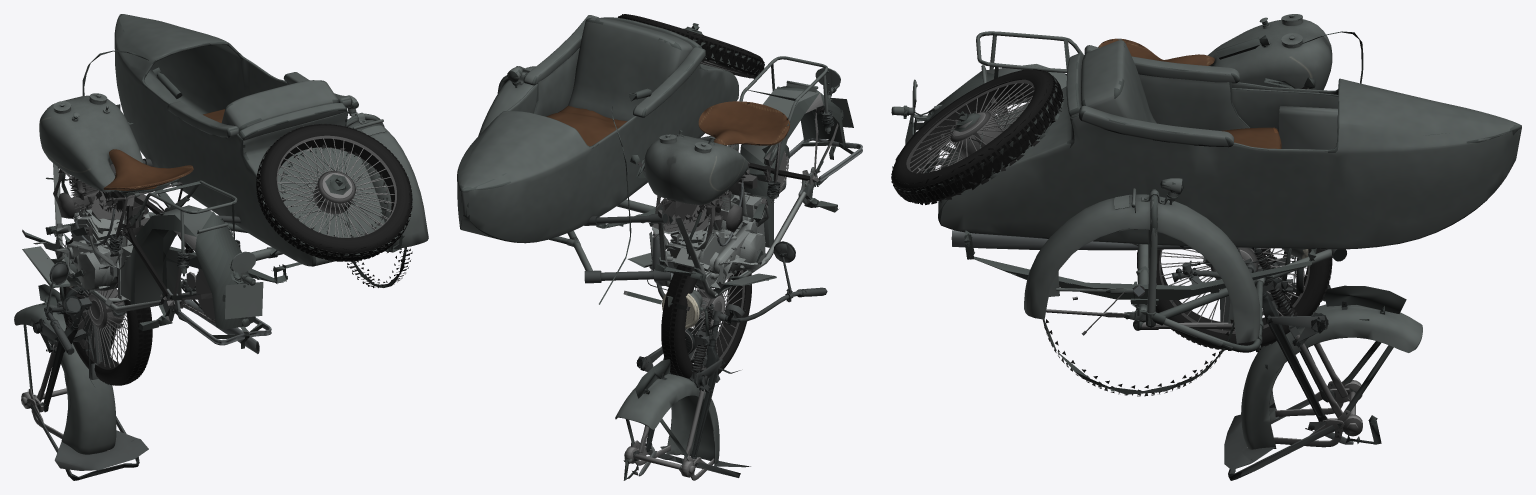
The model's file is CWSM111.fbx.
3 views of the same model, side by side, from view 1: azimuth 30°, elevation 25°; view 2: azimuth 150°, elevation 25°; view 3: azimuth 270°, elevation 25° (orthographic). The views are drawn at different scales.
Parts seen in each view (by area): view 1: cw_Sidecar, cw_Body, cw_SpareWheel, cw_Fork, cw_GasTank, cw_FenderFront, cw_WheelFront, cw_SidecarFender, cw_FenderRear, cw_Seat, cw_WheelRear, cw_Steering (+2 smaller); view 2: cw_Sidecar, cw_Body, cw_Fork, cw_GasTank, cw_FenderFront, cw_WheelFront, cw_Seat, cw_SpareWheel, cw_WheelRear, cw_Steering, cw_FenderRear, cw_SidecarFender (+2 smaller); view 3: cw_Sidecar, cw_Fork, cw_SpareWheel, cw_SidecarFender, cw_Body, cw_FenderFront, cw_GasTank, cw_WheelFront, cw_WheelRear, cw_Muffler, cw_FenderRear, cw_Seat (+1 smaller).
Boxes of the visible parts, box(x1,y1,x2,y2) form: cw_Sidecar: box(114, 14, 384, 266); cw_Body: box(22, 50, 412, 348); cw_SpareWheel: box(256, 123, 412, 261); cw_Fork: box(21, 284, 148, 480); cw_GasTank: box(39, 93, 143, 192); cw_FenderFront: box(14, 303, 116, 454); cw_WheelFront: box(59, 238, 152, 385); cw_SidecarFender: box(346, 95, 428, 247); cw_FenderRear: box(129, 180, 255, 287); cw_Seat: box(103, 149, 193, 190); cw_WheelRear: box(63, 240, 150, 385); cw_Steering: box(44, 261, 195, 354); cw_Sidecar: box(457, 15, 738, 283); cw_Body: box(596, 14, 853, 310); cw_Fork: box(623, 304, 750, 480); cw_GasTank: box(644, 130, 747, 204); cw_FenderFront: box(615, 373, 719, 465); cw_WheelFront: box(661, 265, 751, 378); cw_Seat: box(698, 101, 790, 145); cw_SpareWheel: box(618, 14, 764, 78); cw_WheelRear: box(662, 265, 749, 376); cw_Steering: box(647, 241, 827, 324); cw_FenderRear: box(730, 56, 840, 164); cw_SidecarFender: box(478, 66, 535, 136); cw_Sidecar: box(938, 40, 1521, 352); cw_Fork: box(1220, 248, 1406, 480); cw_SpareWheel: box(891, 69, 1062, 202); cw_SidecarFender: box(1024, 142, 1260, 343); cw_Body: box(891, 31, 1363, 396); cw_FenderFront: box(1241, 304, 1422, 449); cw_GasTank: box(1207, 14, 1332, 90); cw_WheelFront: box(1137, 247, 1332, 350); cw_WheelRear: box(1137, 248, 1331, 350); cw_Muffler: box(900, 158, 1241, 250); cw_FenderRear: box(891, 31, 1084, 123); cw_Seat: box(1098, 38, 1214, 65).
Bounding box in the file's own units: 20.15 × 22.66 × 27.23.
